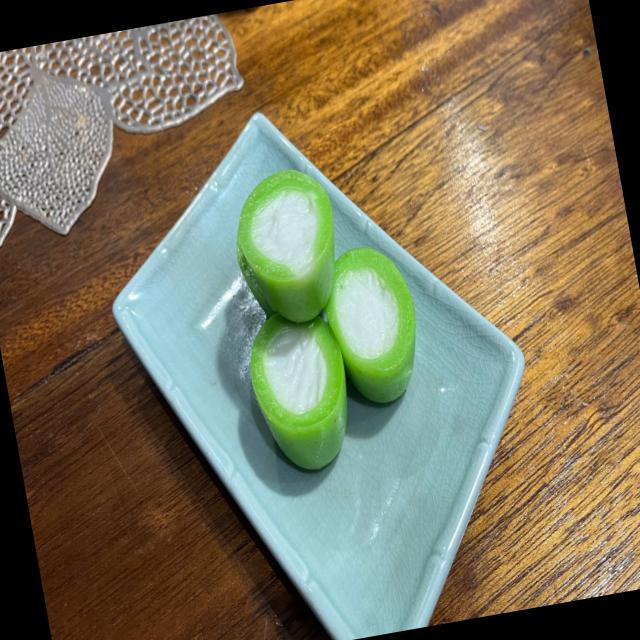nona-manis: (250, 314, 347, 469), (238, 169, 335, 322), (324, 246, 416, 402), (236, 242, 274, 316)
